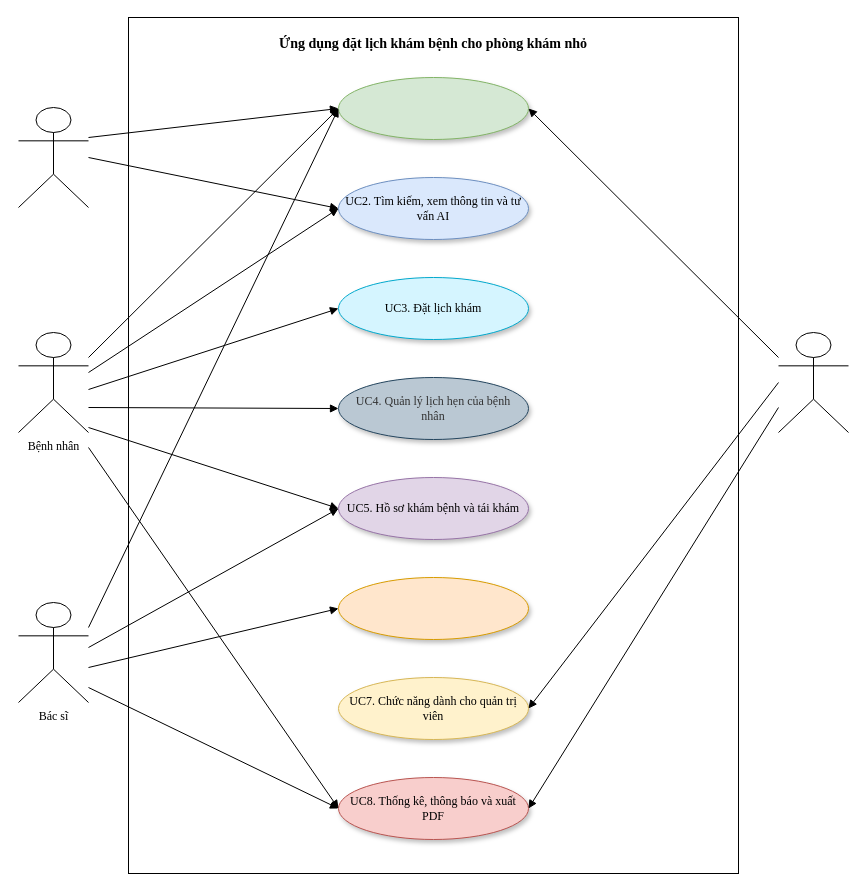
This 866x891 diagram has some shape labels left out. The shapes that lost their labels are listed below. From the top down, each one's centre as x and y in pixels, then its label:
the point at 434,109: UC1. Tài khoản và xác thực
the point at 53,157: Khách truy cập
the point at 813,382: Quản trị viên
the point at 434,609: UC6. Chức năng dành cho bác sĩ
